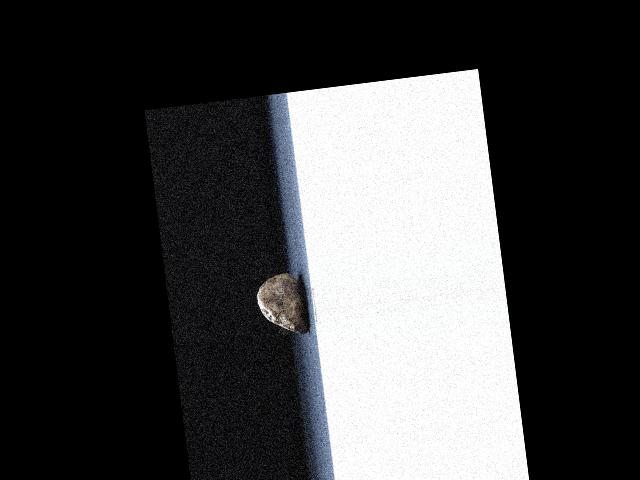beet: (255, 270, 308, 337)
